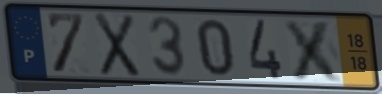0: (193, 17, 237, 78)
3: (146, 14, 187, 79)
4: (248, 18, 284, 81)
7: (46, 11, 88, 76)
X: (281, 17, 347, 84), (92, 10, 142, 79)
